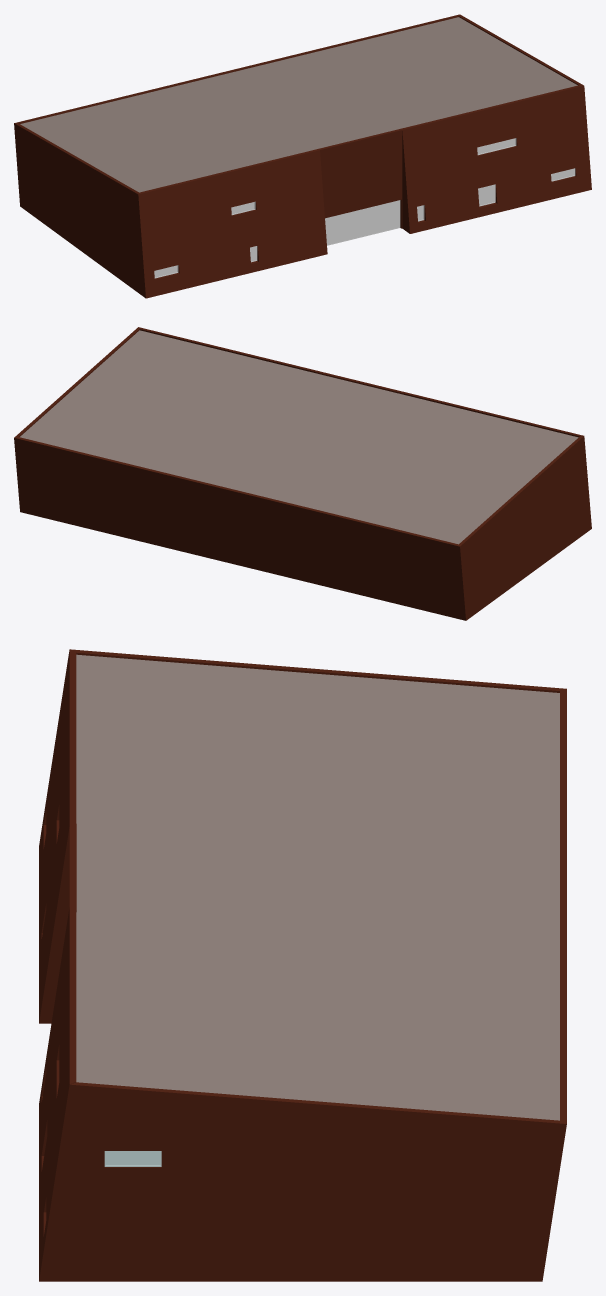
File: ccg-final.glb
The picture shows the model from 3 angles, top to bottom: view 1: azimuth 30°, elevation 25°; view 2: azimuth 150°, elevation 25°; view 3: azimuth 270°, elevation 25°; orthographic projection. The views are drawn at different scales.
Visible parts, largest first — view 1: IfcSlab/Slab, IfcWall/Wall, IfcWall/Wall.001, IfcWall/Wall.002, IfcWall/Wall.005, IfcWindow/Window.004, IfcWall/Wall.006, IfcWall/Wall.003, IfcWall/Wall.004; view 2: IfcSlab/Slab, IfcWall/Wall.006, IfcWall/Wall.002, IfcWall/Wall.001, IfcWall/Wall, IfcWall/Wall.003; view 3: IfcSlab/Slab, IfcWall/Wall.003, IfcWall/Wall.001, IfcWall/Wall, IfcWall/Wall.006, IfcWall/Wall.002, IfcWall/Wall.007, IfcWindow/Window.008.
Part boxes in pixels (x1,y1,x2,y2): IfcSlab/Slab: [20, 17, 577, 192]; IfcWall/Wall: [138, 149, 327, 298]; IfcWall/Wall.001: [402, 85, 591, 233]; IfcWall/Wall.002: [14, 123, 145, 298]; IfcWall/Wall.005: [318, 129, 402, 228]; IfcWindow/Window.004: [325, 200, 400, 245]; IfcWall/Wall.006: [14, 14, 459, 123]; IfcWall/Wall.003: [458, 14, 583, 85]; IfcWall/Wall.004: [401, 128, 409, 233]; IfcSlab/Slab: [20, 330, 578, 544]; IfcWall/Wall.006: [14, 437, 465, 620]; IfcWall/Wall.002: [459, 436, 591, 620]; IfcWall/Wall.001: [138, 327, 319, 372]; IfcWall/Wall: [403, 391, 583, 437]; IfcWall/Wall.003: [14, 327, 139, 437]; IfcSlab/Slab: [76, 654, 559, 1120]; IfcWall/Wall.003: [39, 1082, 566, 1281]; IfcWall/Wall.001: [39, 907, 76, 1280]; IfcWall/Wall: [39, 649, 76, 1022]; IfcWall/Wall.006: [560, 689, 566, 1123]; IfcWall/Wall.002: [70, 649, 566, 692]; IfcWall/Wall.007: [39, 824, 76, 1023]; IfcWindow/Window.008: [104, 1151, 161, 1166].
Bounding box in the file's own units: 45 × 9.5 × 23.07.
